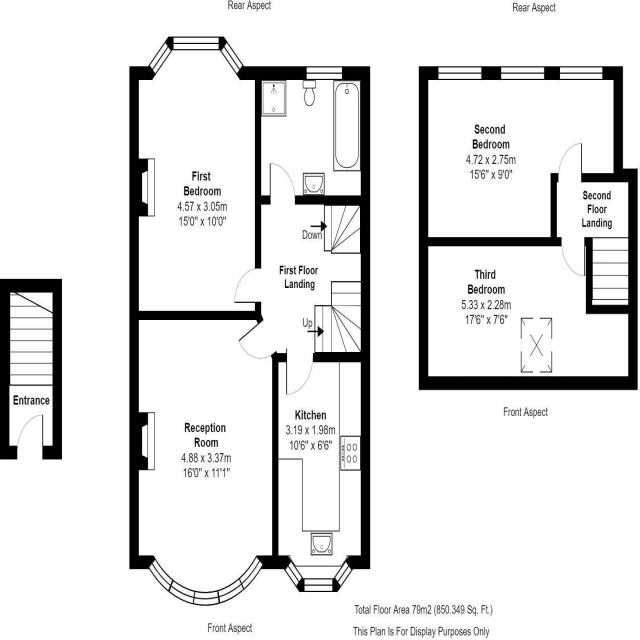DOOR: (235, 314, 277, 367), (283, 352, 318, 399), (14, 410, 47, 459), (267, 152, 297, 205), (229, 264, 263, 308), (558, 235, 589, 282), (556, 137, 587, 183)
ROOM: (129, 310, 279, 606), (129, 37, 263, 321), (418, 65, 624, 246), (418, 236, 638, 391), (272, 352, 371, 593)
WINDOW: (145, 553, 267, 610), (147, 39, 173, 78), (437, 62, 484, 83), (220, 39, 245, 77), (172, 34, 220, 53), (501, 63, 546, 82), (558, 64, 604, 82), (305, 63, 343, 83), (281, 559, 304, 589), (333, 559, 353, 590), (303, 576, 333, 593)
